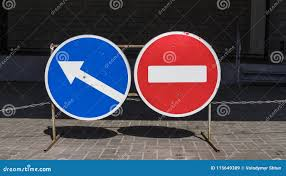No entry: (134, 31, 221, 118)
